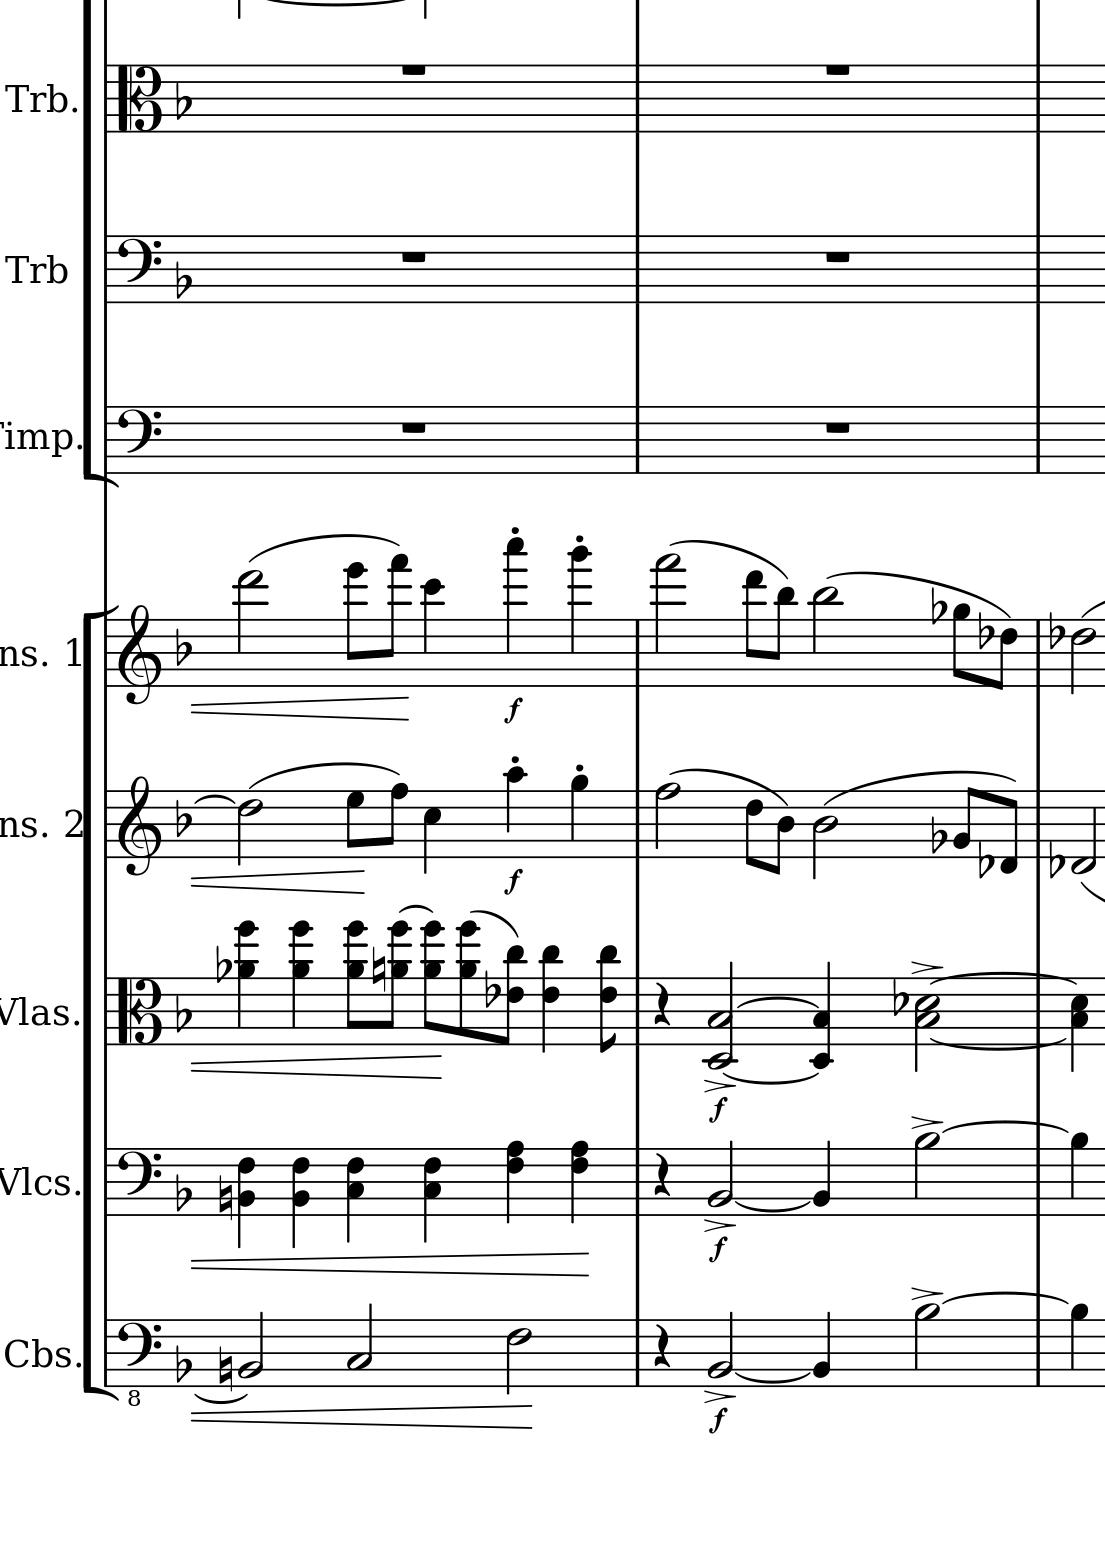2_-1: (1068, 788, 1097, 877)
2_-2_3: (701, 961, 741, 1069)
2_11: (810, 586, 841, 691)
2_13: (233, 569, 265, 691)
2_15: (651, 552, 683, 689)
2_2: (706, 1138, 735, 1220), (706, 1309, 735, 1391), (237, 1309, 265, 1388)
2_3: (344, 1300, 374, 1388)
2_3_5: (912, 976, 941, 1071)
2_4: (810, 788, 841, 884)
2_6: (1068, 617, 1098, 695), (236, 788, 263, 867), (503, 1318, 531, 1396)
2_8: (652, 780, 680, 862)
2_9: (911, 1132, 940, 1219), (911, 1303, 938, 1390)
4_-2_3: (806, 961, 837, 1071)
4_10: (502, 767, 529, 860)
4_12: (420, 576, 444, 691)
4_16: (567, 545, 594, 686)
4_17: (503, 535, 529, 686)
4_2: (811, 1137, 834, 1219), (811, 1309, 834, 1390)
4_2_6: (236, 1147, 258, 1250), (289, 1146, 311, 1248)
4_3_5: (1070, 976, 1089, 1073)
4_3_6: (346, 1147, 366, 1250), (420, 1146, 440, 1248)
4_5: (421, 789, 442, 877)
4_6_11: (537, 944, 564, 1055)
4_6_8: (505, 1138, 529, 1225), (566, 1137, 590, 1223)
4_9: (568, 773, 592, 860), (1067, 1302, 1089, 1390), (1068, 1131, 1089, 1219)
4_9_14: (232, 918, 263, 1048), (288, 920, 315, 1046)
8_-1: (999, 788, 1020, 875)
8_11: (768, 585, 796, 690)
8_13: (741, 568, 765, 691)
8_14: (343, 561, 370, 686)
8_15: (381, 554, 410, 688)
8_2: (951, 784, 978, 861)
8_4: (768, 789, 795, 875)
8_6: (993, 617, 1019, 692), (743, 789, 763, 872)
8_6_11: (496, 944, 530, 1046), (596, 944, 622, 1054)
8_7: (344, 789, 366, 860)
8_8: (380, 781, 409, 860)
8_9: (950, 602, 972, 689)
8_9_14: (384, 920, 413, 1046), (343, 918, 370, 1048), (420, 920, 446, 1048), (454, 920, 480, 1046)
Accent_above: (906, 958, 944, 977), (700, 1076, 735, 1094), (908, 1286, 944, 1303), (908, 1115, 944, 1131), (700, 1219, 738, 1234), (701, 1388, 737, 1404)
Bracke: (79, 603, 122, 1403)
Cclef: (112, 62, 164, 134), (114, 976, 163, 1048)
Fclef: (116, 405, 163, 480), (116, 233, 161, 306), (116, 1147, 161, 1219)
Flat: (172, 80, 195, 123), (889, 975, 909, 1019), (172, 260, 193, 303), (172, 993, 193, 1036), (172, 1342, 193, 1385), (975, 838, 994, 883), (172, 796, 191, 839), (173, 1171, 193, 1214), (172, 627, 191, 668), (928, 813, 947, 855), (1046, 837, 1066, 879), (483, 966, 501, 1011), (214, 944, 232, 984), (928, 586, 945, 628), (1048, 609, 1063, 652), (977, 609, 993, 651)
Gclef: (116, 603, 163, 707), (116, 774, 163, 877)
Lower_Fclef: (114, 1319, 164, 1409)
Natural: (215, 1172, 233, 1225), (368, 944, 386, 994), (215, 1345, 233, 1392)
Ob: (5, 1333, 54, 1373)
Rests1: (396, 417, 429, 438), (397, 60, 429, 79), (822, 60, 854, 79), (822, 417, 854, 436), (397, 248, 429, 265), (822, 248, 854, 265)
Rests4: (649, 979, 674, 1028), (651, 1150, 673, 1199), (651, 1321, 673, 1370)
Single_barline: (1027, 1148, 1051, 1216), (97, 65, 117, 132), (97, 978, 117, 1045), (1028, 1319, 1049, 1386), (98, 619, 117, 688), (1028, 619, 1048, 688), (98, 236, 117, 303), (627, 236, 646, 303), (627, 407, 646, 474), (627, 66, 646, 132), (627, 1149, 646, 1215), (627, 1320, 646, 1386), (97, 1150, 116, 1215), (1028, 236, 1046, 303), (97, 407, 115, 474), (1028, 407, 1046, 474), (629, 790, 647, 857), (1028, 790, 1046, 857), (1028, 66, 1046, 132), (628, 619, 645, 686), (99, 790, 116, 857), (628, 978, 645, 1045), (98, 1321, 115, 1386)
Slur: (829, 570, 1013, 619), (822, 767, 1017, 808), (670, 537, 790, 581), (670, 765, 789, 808), (242, 532, 399, 562), (251, 761, 402, 788), (930, 1036, 1068, 1054), (930, 970, 1076, 985), (938, 1290, 1066, 1306), (942, 1121, 1070, 1134), (471, 908, 518, 940), (726, 1071, 818, 1083), (735, 1199, 814, 1211), (734, 1370, 808, 1382), (738, 999, 822, 1008), (193, 794, 236, 806), (396, 903, 434, 916)
Trb: (2, 75, 69, 121), (1, 248, 68, 291)
Vlc: (1, 1161, 51, 1203), (1, 993, 50, 1033)
f: (706, 1235, 731, 1265), (501, 696, 525, 727), (706, 1405, 729, 1434), (502, 867, 525, 897), (707, 1095, 729, 1123)
